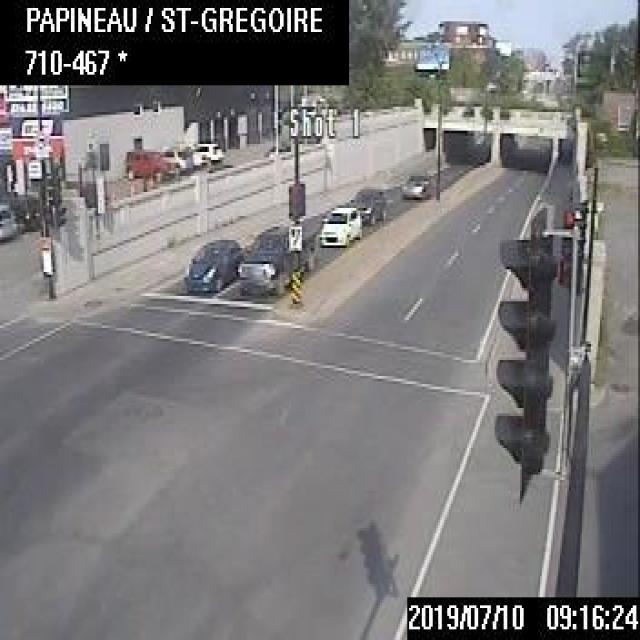vehicle: (244, 214, 317, 296), (180, 231, 242, 295), (318, 204, 360, 247), (121, 146, 174, 179), (346, 184, 386, 224), (1, 193, 38, 231), (157, 141, 191, 174), (188, 137, 221, 165), (0, 201, 20, 247), (399, 170, 429, 197)
